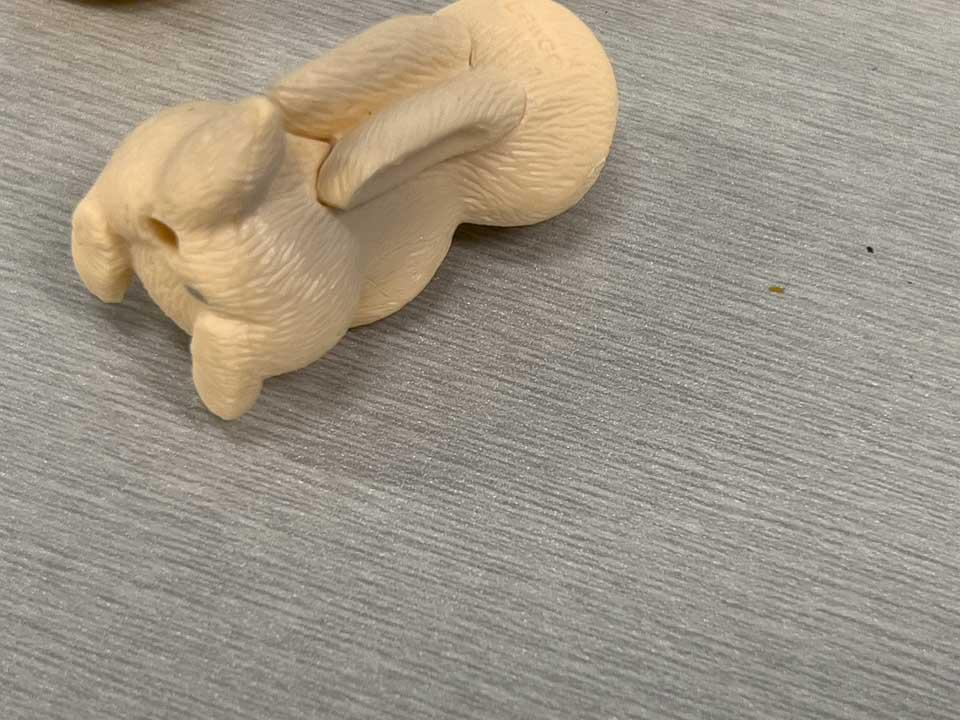pet: (45, 0, 654, 435)
